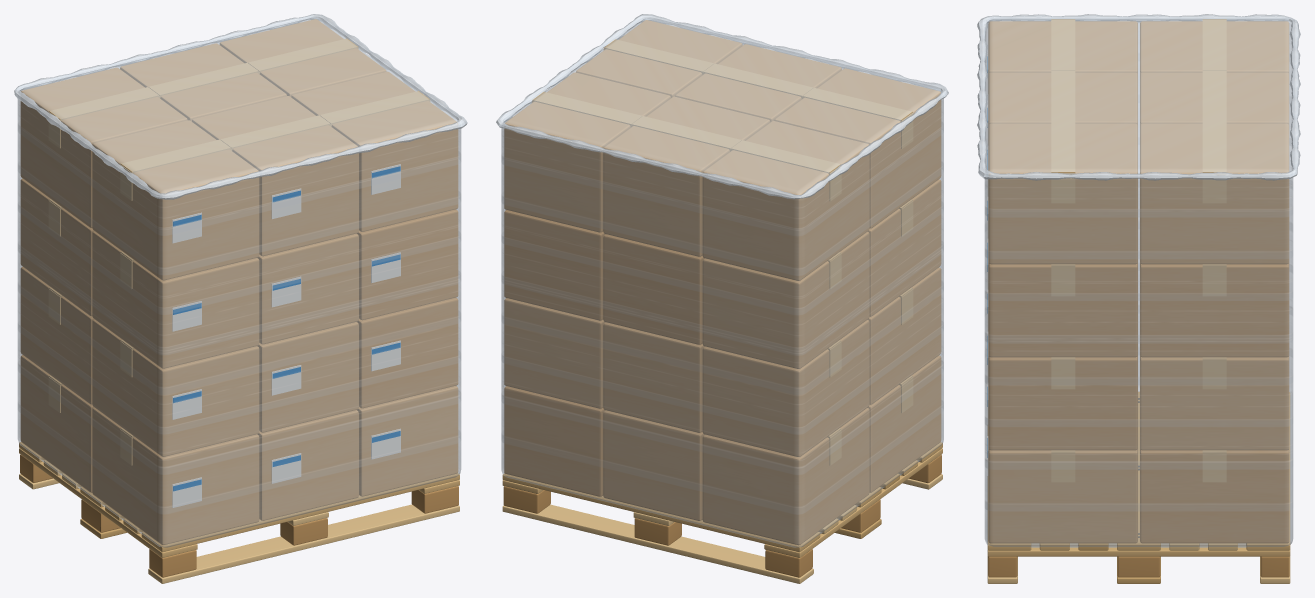
The model's file is pallet_load_wrapped.glb.
3 renders of one model, left to right at view 1: azimuth 30°, elevation 25°; view 2: azimuth 150°, elevation 25°; view 3: azimuth 270°, elevation 25°, orthographic. The views are drawn at different scales.
Parts seen in each view (by area): view 1: film_geo, load_geo, pallet_geo; view 2: film_geo, load_geo, pallet_geo; view 3: film_geo, load_geo, pallet_geo.
Part boxes in pixels (bbox=[...]): film_geo: bbox=[14, 14, 467, 547]; load_geo: bbox=[20, 19, 458, 544]; pallet_geo: bbox=[19, 442, 459, 583]; film_geo: bbox=[496, 14, 948, 547]; load_geo: bbox=[504, 20, 941, 545]; pallet_geo: bbox=[502, 442, 942, 583]; film_geo: bbox=[977, 14, 1300, 547]; load_geo: bbox=[987, 19, 1289, 543]; pallet_geo: bbox=[987, 391, 1290, 583].
Size of the model in its own units: 1.27 by 1.51 by 1.07.
12 materials, 1 textured.
